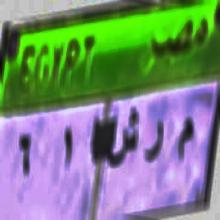1: (59, 123, 82, 176)
6: (15, 121, 39, 178)
meem: (177, 100, 196, 177)
raa: (143, 115, 168, 178)
sheen: (108, 106, 140, 178)
